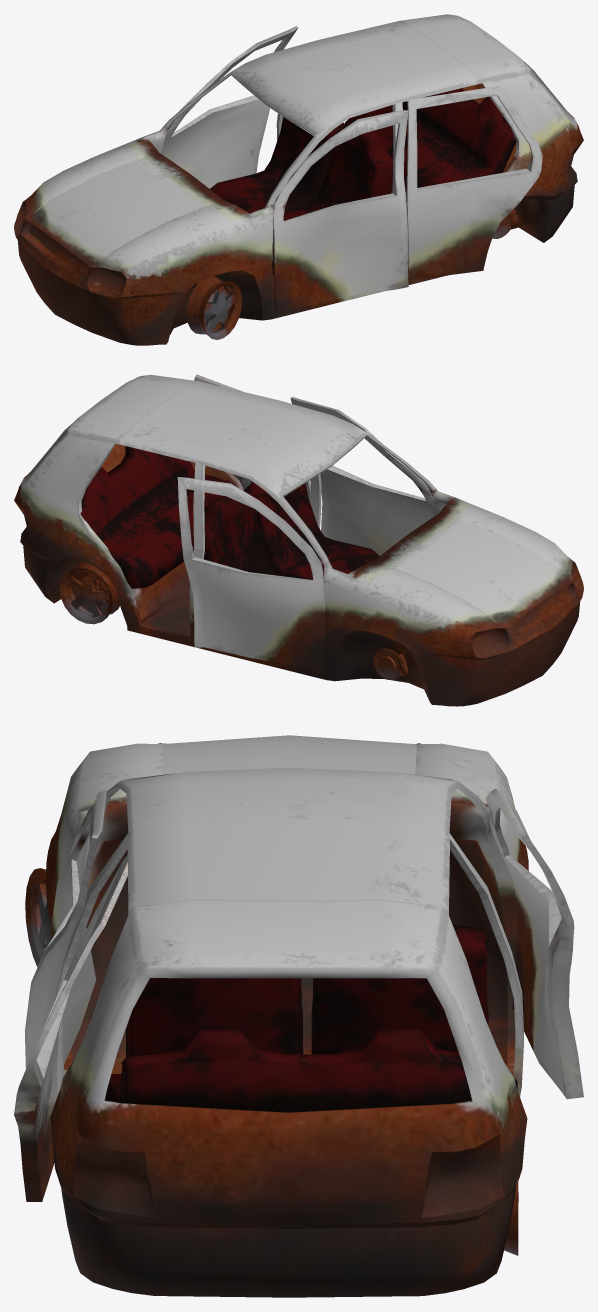
Rendered from car.glb.
3 renders of one model, top to bottom at view 1: azimuth 30°, elevation 25°; view 2: azimuth 150°, elevation 25°; view 3: azimuth 270°, elevation 25°, orthographic. The views are drawn at different scales.
Visible parts, largest first — view 1: CarChasis-low_Chasis_0, Rim-Front-Left_Chasis_0; view 2: CarChasis-low_Chasis_0, Rim-Front-Left_Chasis_0; view 3: CarChasis-low_Chasis_0, Rim-Front-Left_Chasis_0.
Part boxes in pixels (x1=…): CarChasis-low_Chasis_0: x1=14, y1=14, x2=583, y2=345; Rim-Front-Left_Chasis_0: x1=186, y1=208, x2=518, y2=339; CarChasis-low_Chasis_0: x1=14, y1=374, x2=583, y2=706; Rim-Front-Left_Chasis_0: x1=59, y1=562, x2=408, y2=680; CarChasis-low_Chasis_0: x1=14, y1=735, x2=583, y2=1297; Rim-Front-Left_Chasis_0: x1=25, y1=868, x2=518, y2=1255.
Size of the model in its own units: 4.6 by 1.56 by 2.35.
Materials: 1 (1 with a texture image).
